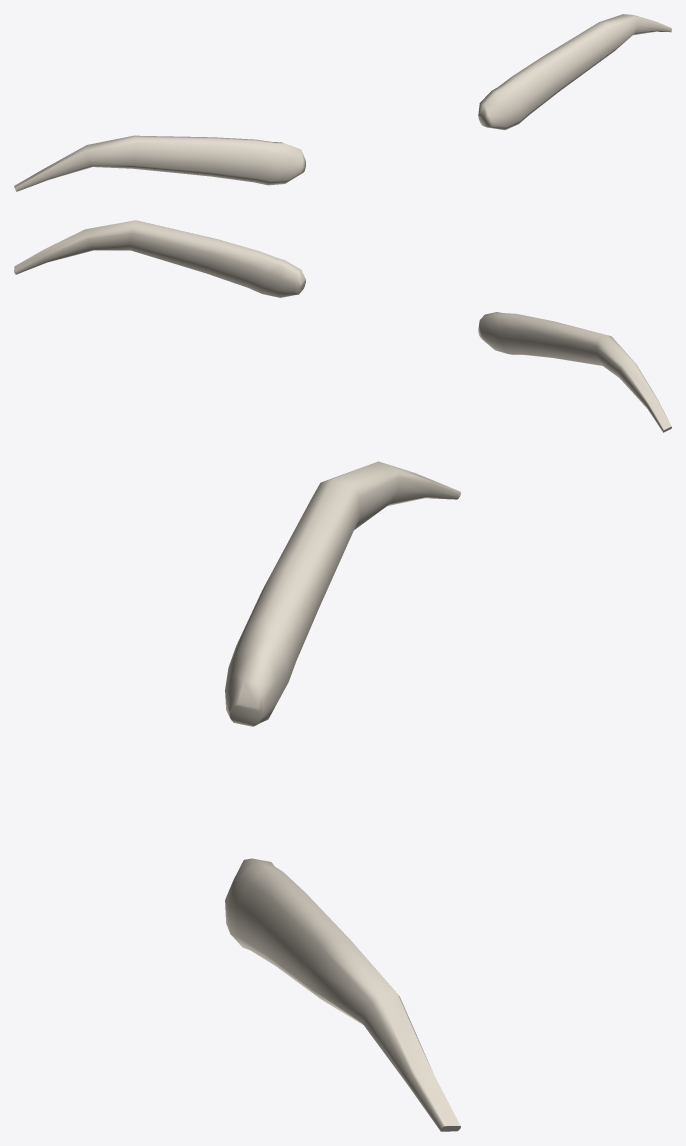
The model's file is Eyebrows_14_07.fbx.
3 views of the same model, one above another, from view 1: azimuth 30°, elevation 25°; view 2: azimuth 150°, elevation 25°; view 3: azimuth 270°, elevation 25° (orthographic). The views are drawn at different scales.
Visible parts, largest first — view 1: Eyebrows_14_07; view 2: Eyebrows_14_07; view 3: Eyebrows_14_07.
Part boxes in pixels (left/top/right/bottom): Eyebrows_14_07: left=14, top=14, right=671, bottom=191; Eyebrows_14_07: left=14, top=220, right=671, bottom=432; Eyebrows_14_07: left=225, top=461, right=460, bottom=1131.
Bounding box in the file's own units: 19.11 × 1.7 × 2.97.
